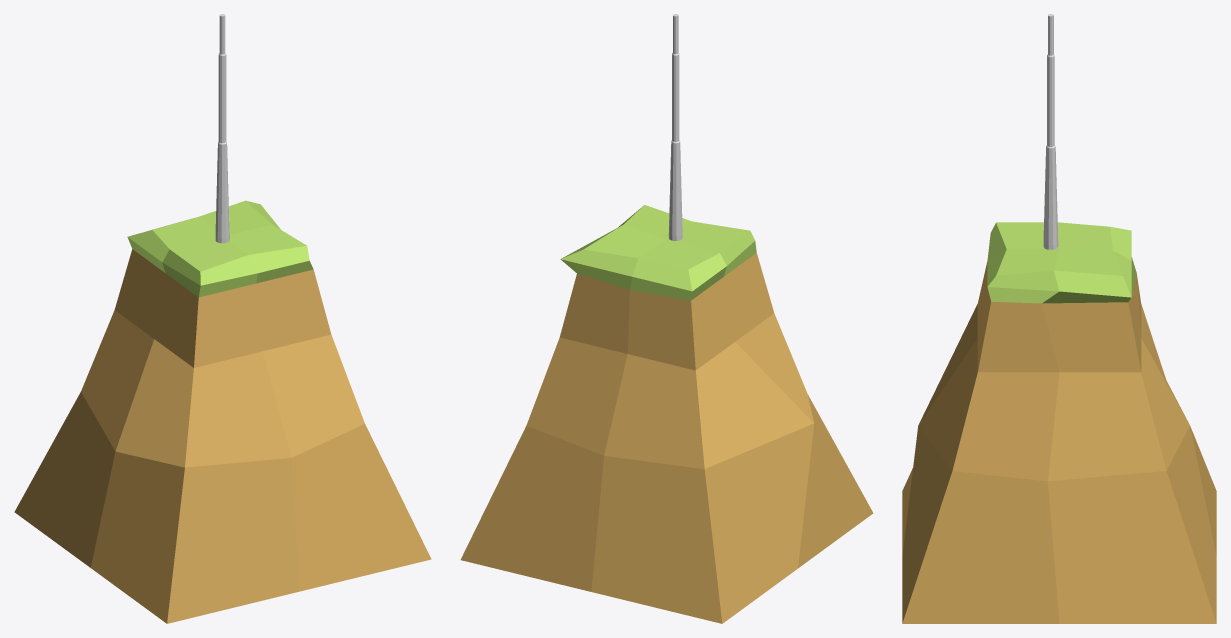
Rendered from Side_Terrain_3.fbx.
3 renders of one model, left to right at view 1: azimuth 30°, elevation 25°; view 2: azimuth 150°, elevation 25°; view 3: azimuth 270°, elevation 25°, orthographic. The views are drawn at different scales.
Visible parts, largest first — view 1: Side_Terrain_3; view 2: Side_Terrain_3; view 3: Side_Terrain_3.
Part boxes in pixels (bbox=[...]): Side_Terrain_3: bbox=[14, 14, 431, 623]; Side_Terrain_3: bbox=[460, 14, 873, 623]; Side_Terrain_3: bbox=[902, 14, 1216, 623].
Bounding box in the file's own units: 496 × 939 × 496.
